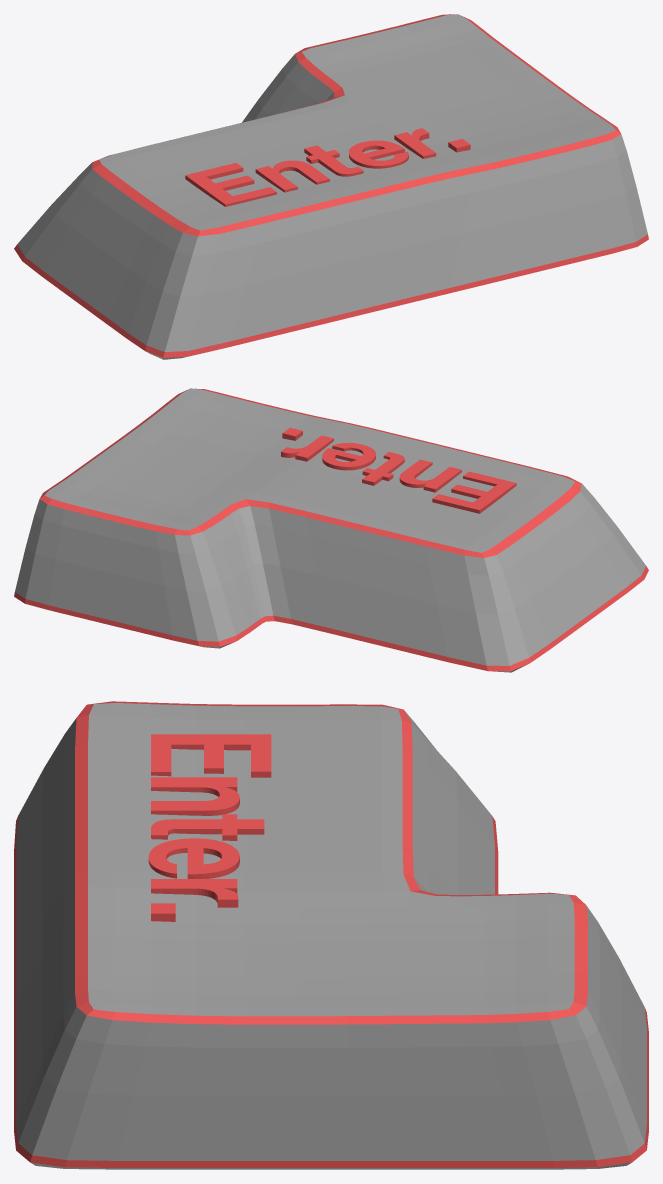
The model's file is SM_Enter.fbx.
3 renders of one model, top to bottom at view 1: azimuth 30°, elevation 25°; view 2: azimuth 150°, elevation 25°; view 3: azimuth 270°, elevation 25°, orthographic. The views are drawn at different scales.
Parts seen in each view (by area): view 1: SM_Enter; view 2: SM_Enter; view 3: SM_Enter.
Part boxes in pixels (x1,y1,x2,y2): SM_Enter: [14, 14, 648, 359]; SM_Enter: [14, 388, 648, 672]; SM_Enter: [14, 701, 648, 1169].
Size of the model in its own units: 34.62 by 6.89 by 25.37.
